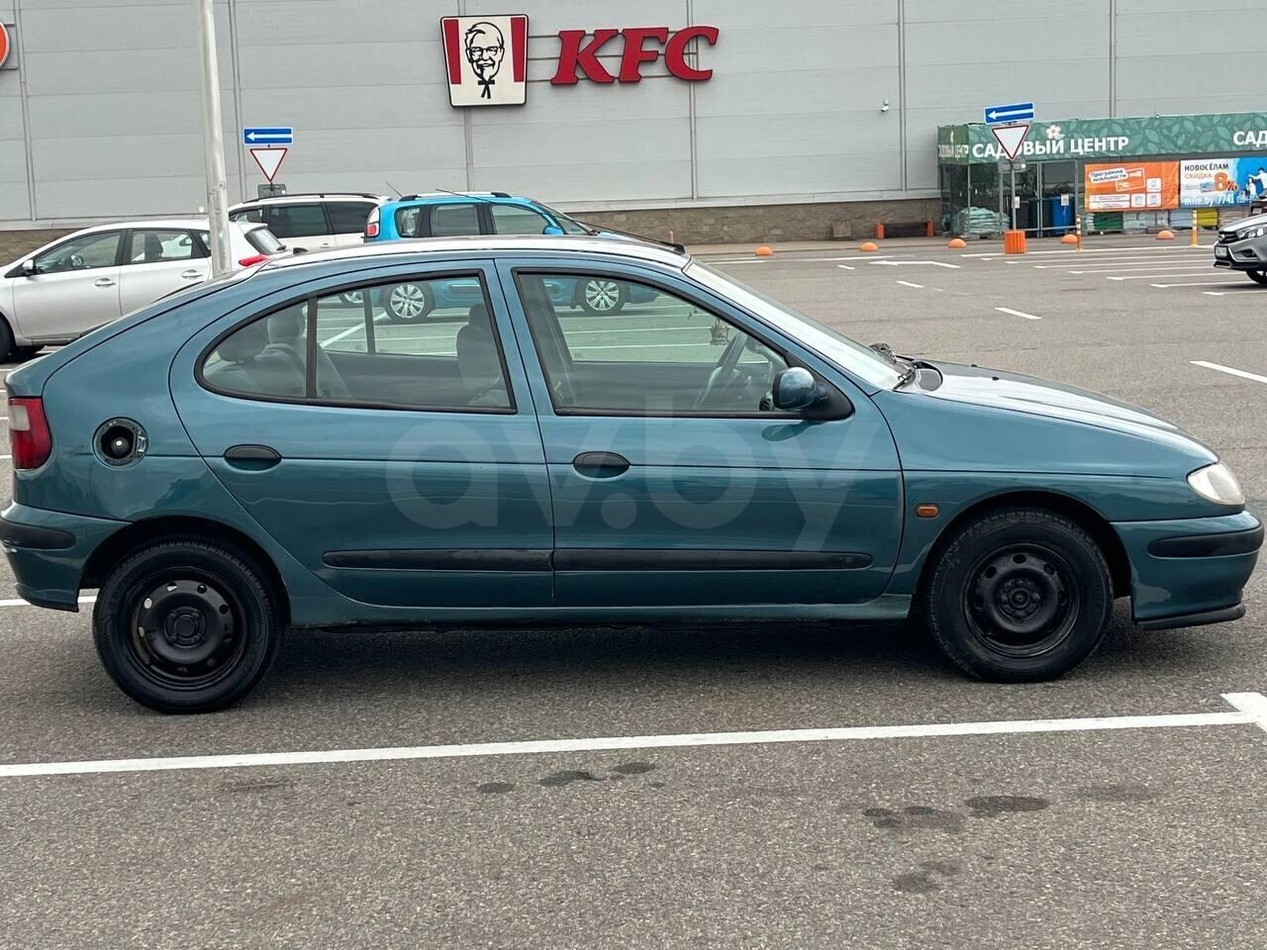Megane_1995-1999: (0, 238, 1267, 720)
